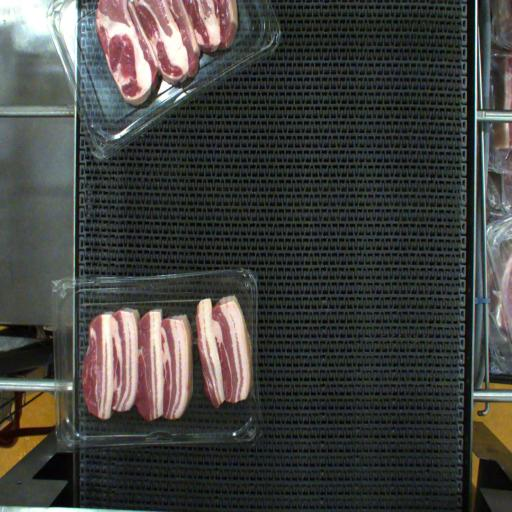loose-meat: (198, 290, 258, 409)
